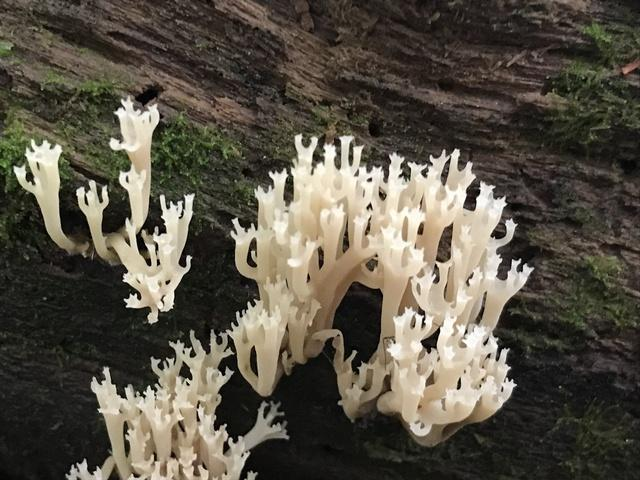Edible Mushroom: (226, 131, 535, 447), (12, 90, 197, 324), (90, 335, 264, 474)
